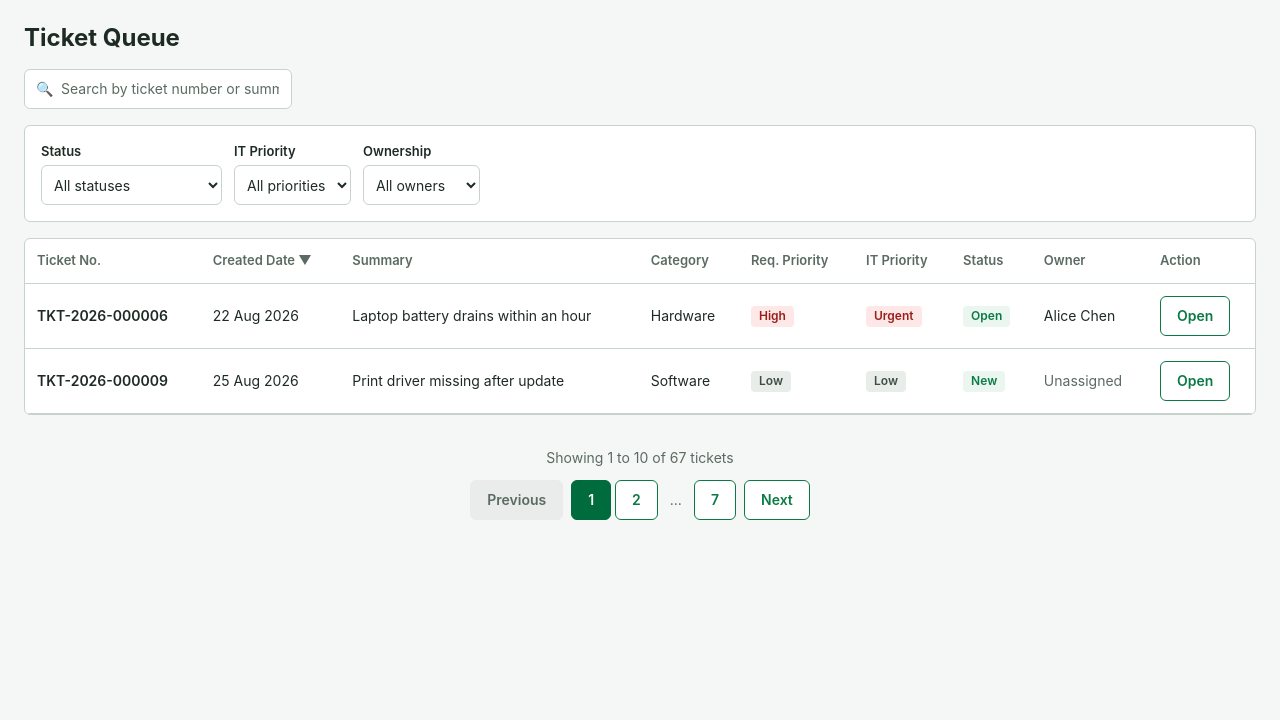
Test: UI-05 — empty and no-results states (ui-spec §5) › shows the no-results state with a working Clear filters action
Select "Cancelled" in the dropdown labelled "Status": (132, 185) [41,165,222,205]
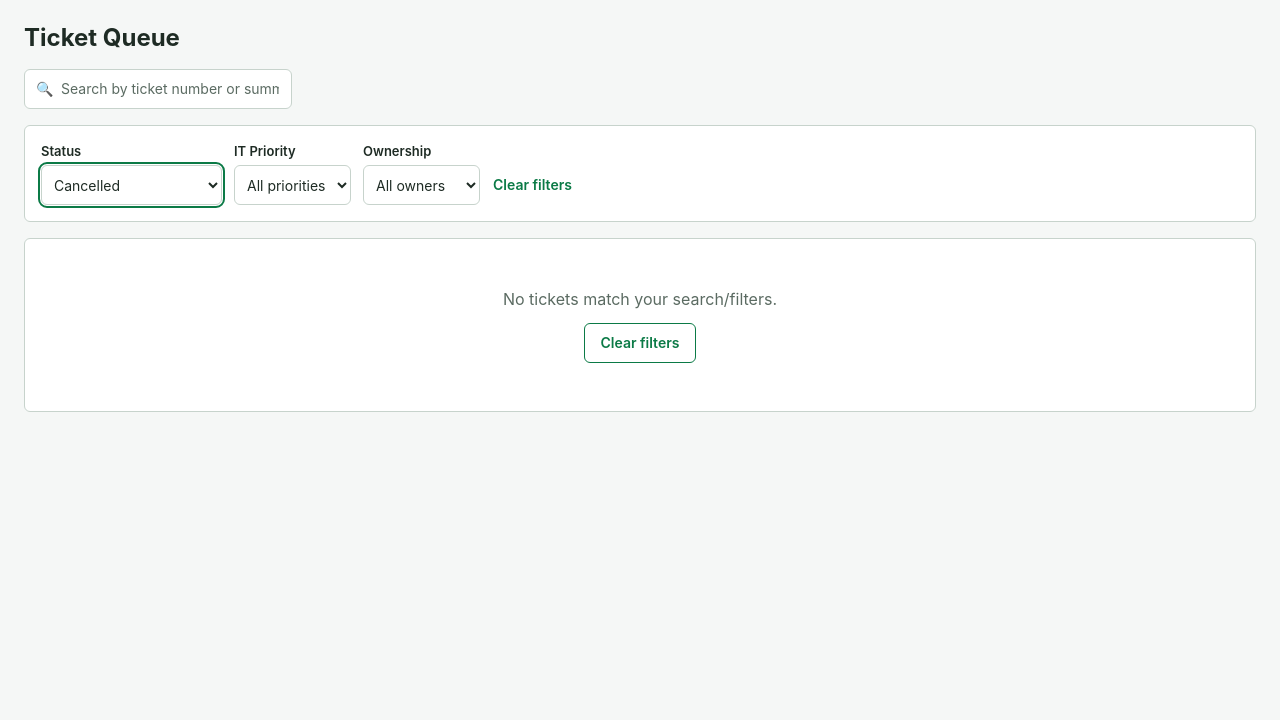
Now the text "No tickets match your search/filters." is shown, box [503,287,777,311]
Click the button "Clear filters" below "No tickets match your search/filters.": (640, 343) [584,323,696,363]
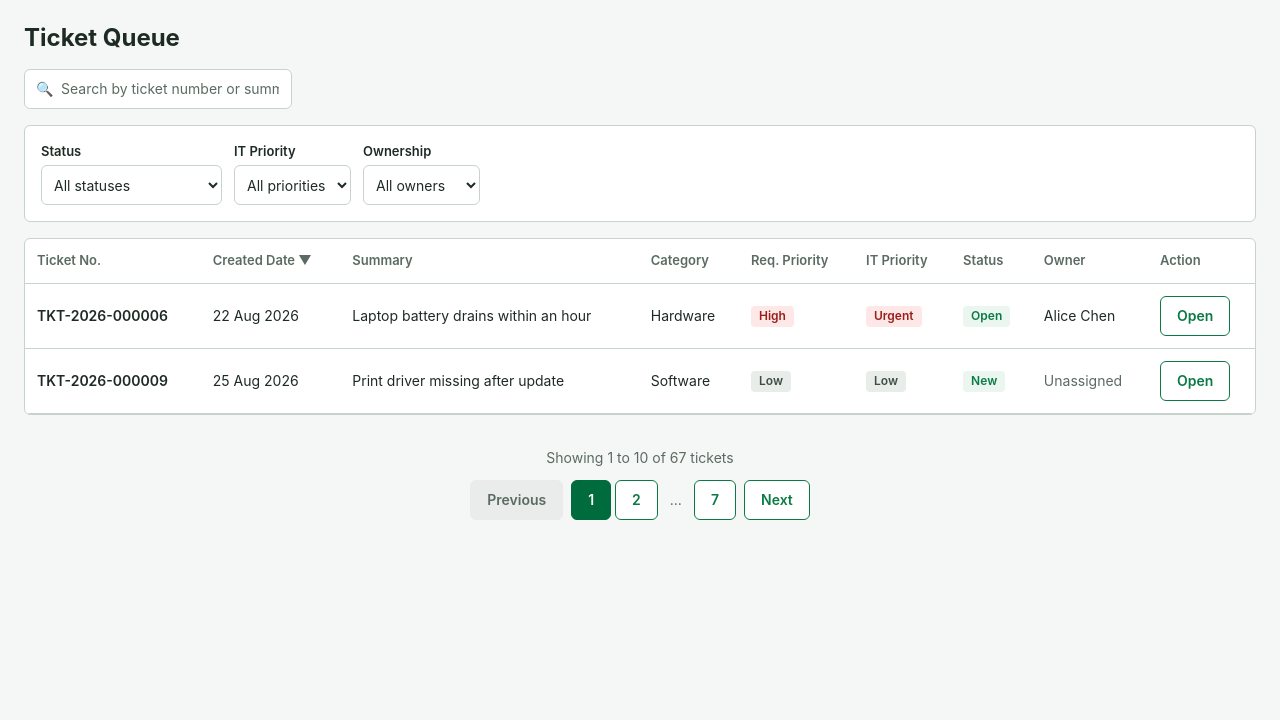
Now the number of rows with test id "queue-row" is 2, box [25,283,1255,348]; [25,348,1255,413]
